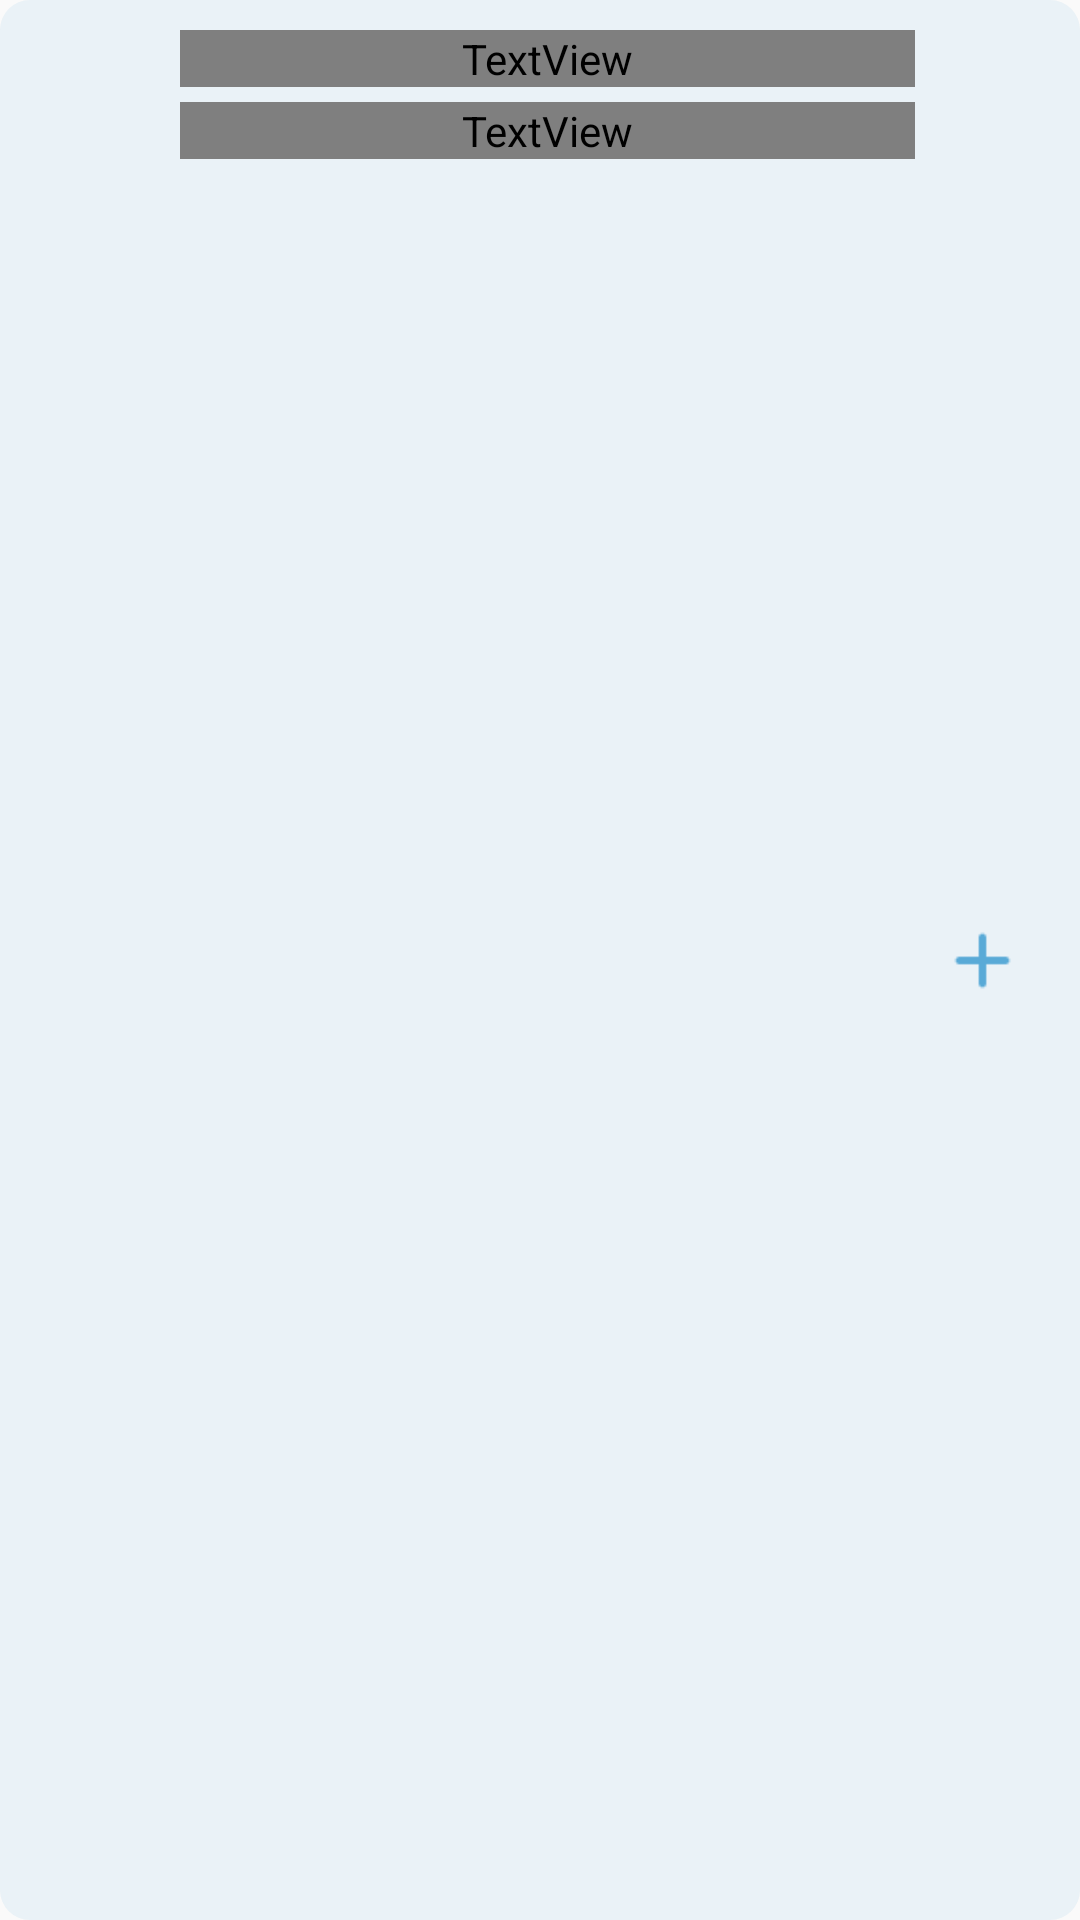

Named icons in this screenshot (1080w x 1920h) and their bounding boxes, bbox(x1, y1, x2, y2):
plus notification: bbox(955, 933, 1010, 988)
